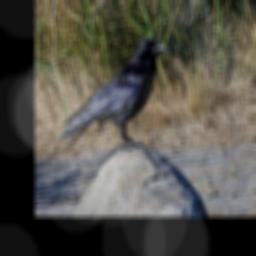Crow: (57, 34, 169, 156)
